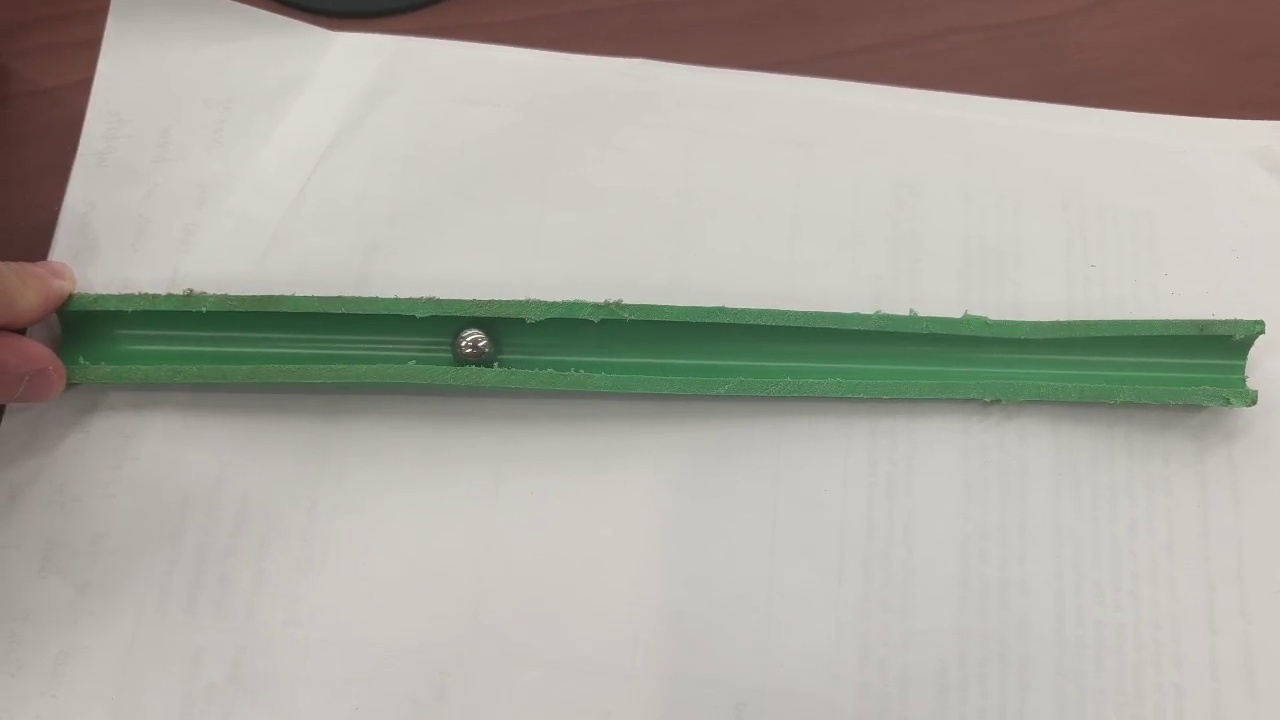ball: (456, 328, 490, 360)
